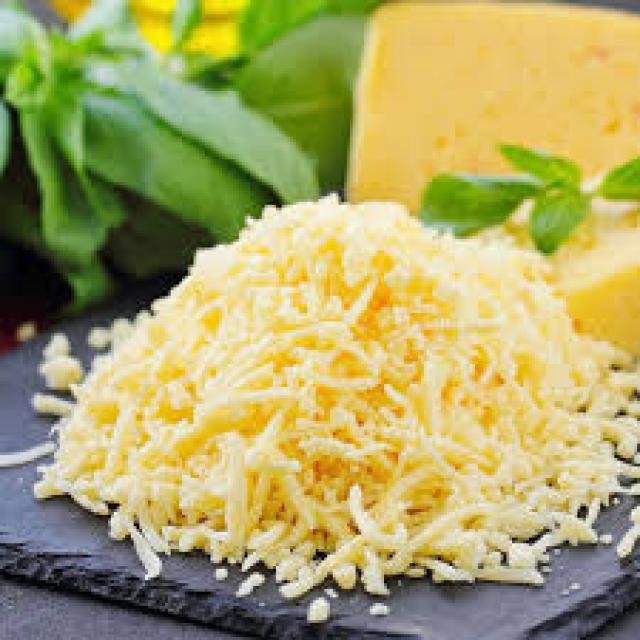cheese: (182, 253, 518, 512)
